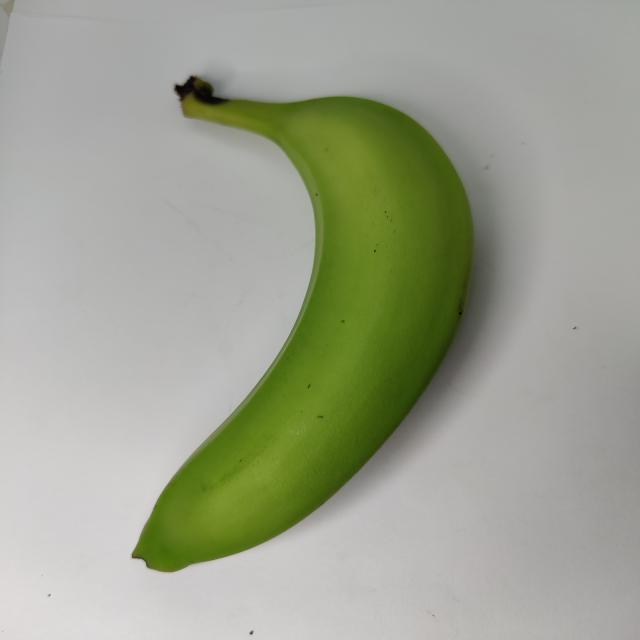raw: (69, 69, 516, 584)
